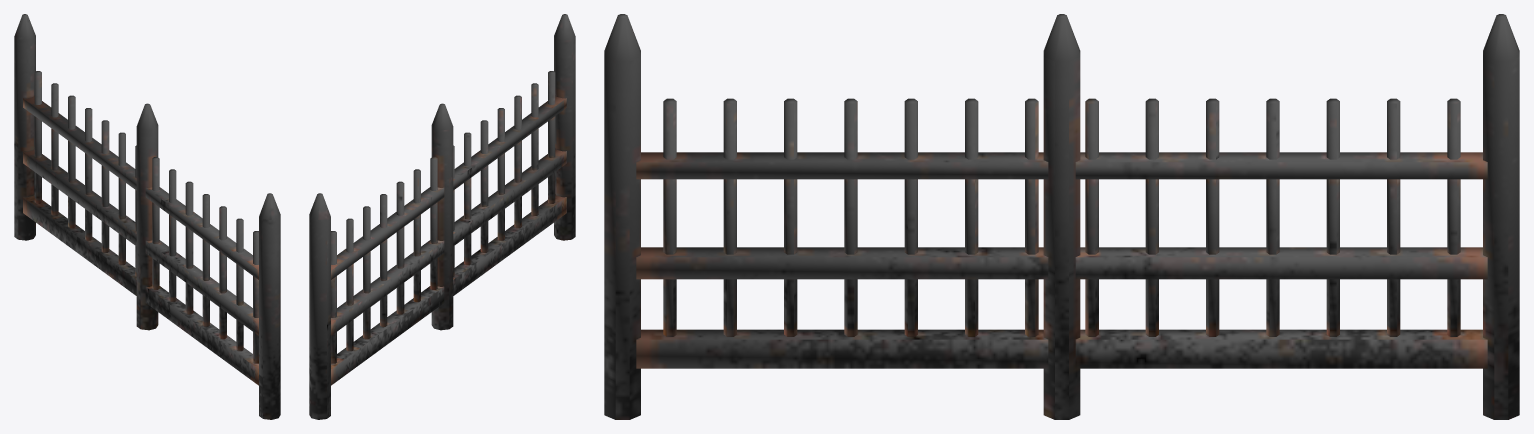
Rendered from Fence.obj.
The picture shows the model from 3 angles, left to right: view 1: azimuth 30°, elevation 25°; view 2: azimuth 150°, elevation 25°; view 3: azimuth 270°, elevation 25°; orthographic projection. The views are drawn at different scales.
Visible parts, largest first — view 1: Ograda_iz_prutev_(8); view 2: Ograda_iz_prutev_(8); view 3: Ograda_iz_prutev_(8).
Boxes of the visible parts, x1,y1,x2,y2 form: Ograda_iz_prutev_(8): (14,14,280,419); Ograda_iz_prutev_(8): (309,14,575,419); Ograda_iz_prutev_(8): (604,14,1519,419).
Bounding box in the file's own units: 0.0762 × 0.9096 × 1.9.
1 material, 1 textured.
